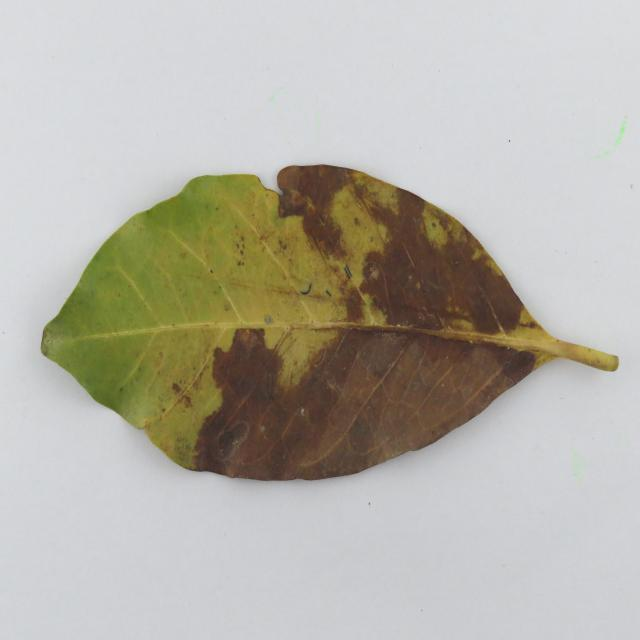DeficienciaNutricional-Potasio: (41, 165, 619, 480)
